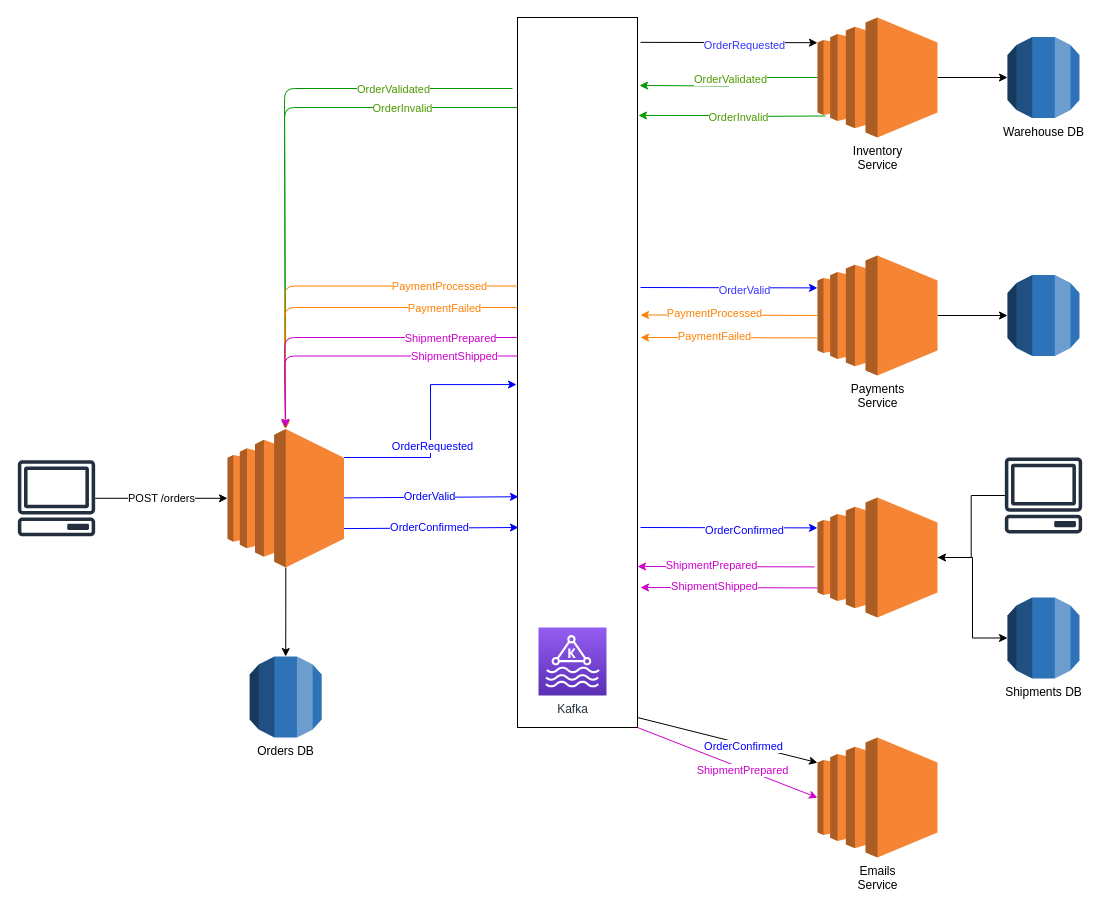
The diagram is 1101 pixels wide and 911 high, and some of its shapes have lost their labels. The shapes that lost their labels are listed below. From the top down, each one's centre as x and y in pixels, then its label:
At pixel 1043 315: "Payments DB".
At pixel 285 498: "Orders Service".
At pixel 877 557: "Shipments Service".
